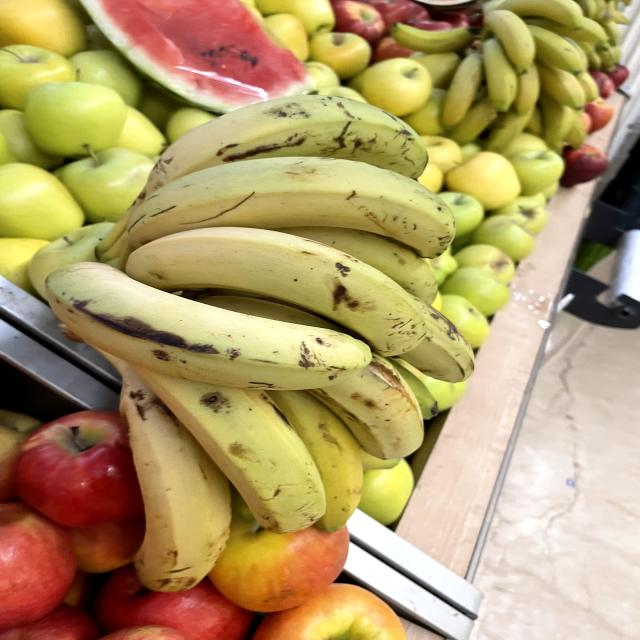banana: (118, 223, 430, 363), (97, 153, 459, 262)
